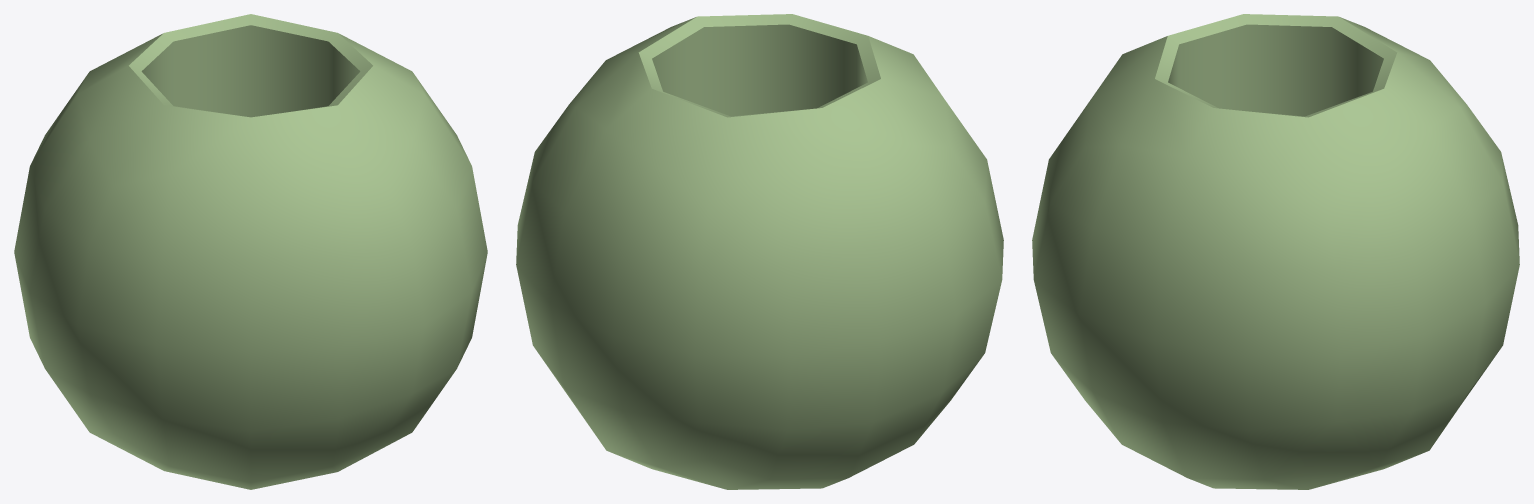
The model's file is Toy_Ball_8.glb.
3 views of the same model, side by side, from view 1: azimuth 30°, elevation 25°; view 2: azimuth 150°, elevation 25°; view 3: azimuth 270°, elevation 25° (orthographic). The views are drawn at different scales.
Visible parts, largest first — view 1: Toy_Ball_8; view 2: Toy_Ball_8; view 3: Toy_Ball_8.
Part boxes in pixels (x1=…): Toy_Ball_8: x1=14, y1=14, x2=487, y2=489; Toy_Ball_8: x1=516, y1=14, x2=1003, y2=489; Toy_Ball_8: x1=1032, y1=14, x2=1519, y2=489.
Bounding box in the file's own units: 0.0595 × 0.0512 × 0.0595.
Materials: 1 (1 with a texture image).
